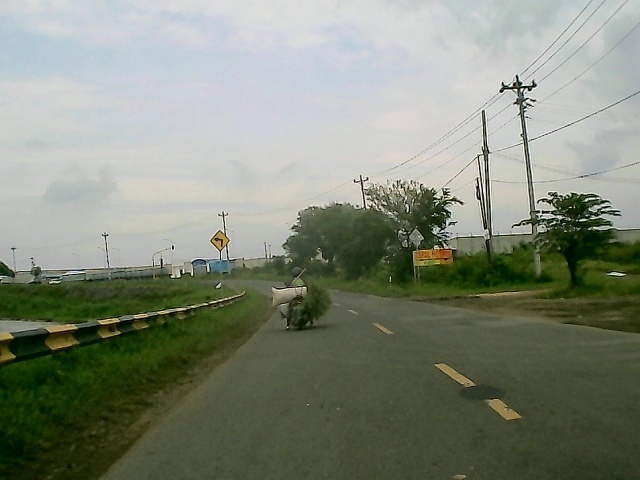Tikungan tajam ke kiri: (207, 227, 231, 254)
